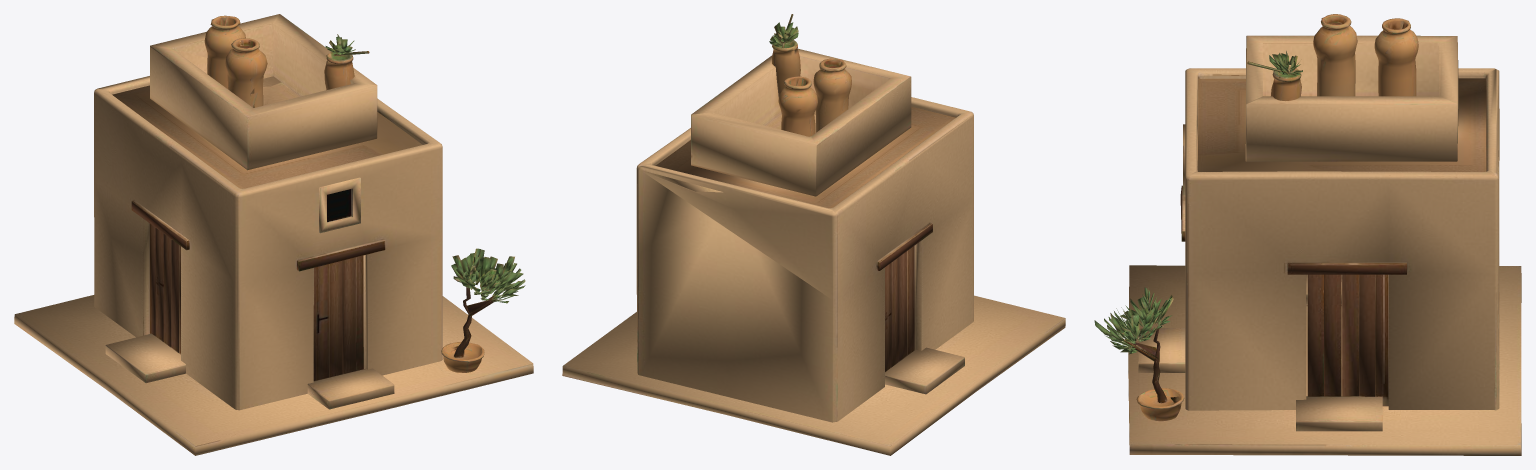
Rendered from house-3.glb.
3 views of the same model, side by side, from view 1: azimuth 30°, elevation 25°; view 2: azimuth 150°, elevation 25°; view 3: azimuth 270°, elevation 25° (orthographic). The views are drawn at different scales.
Bounding box in the file's own units: 0.9482 × 0.8301 × 0.9536.
Materials: 1 (1 with a texture image).
